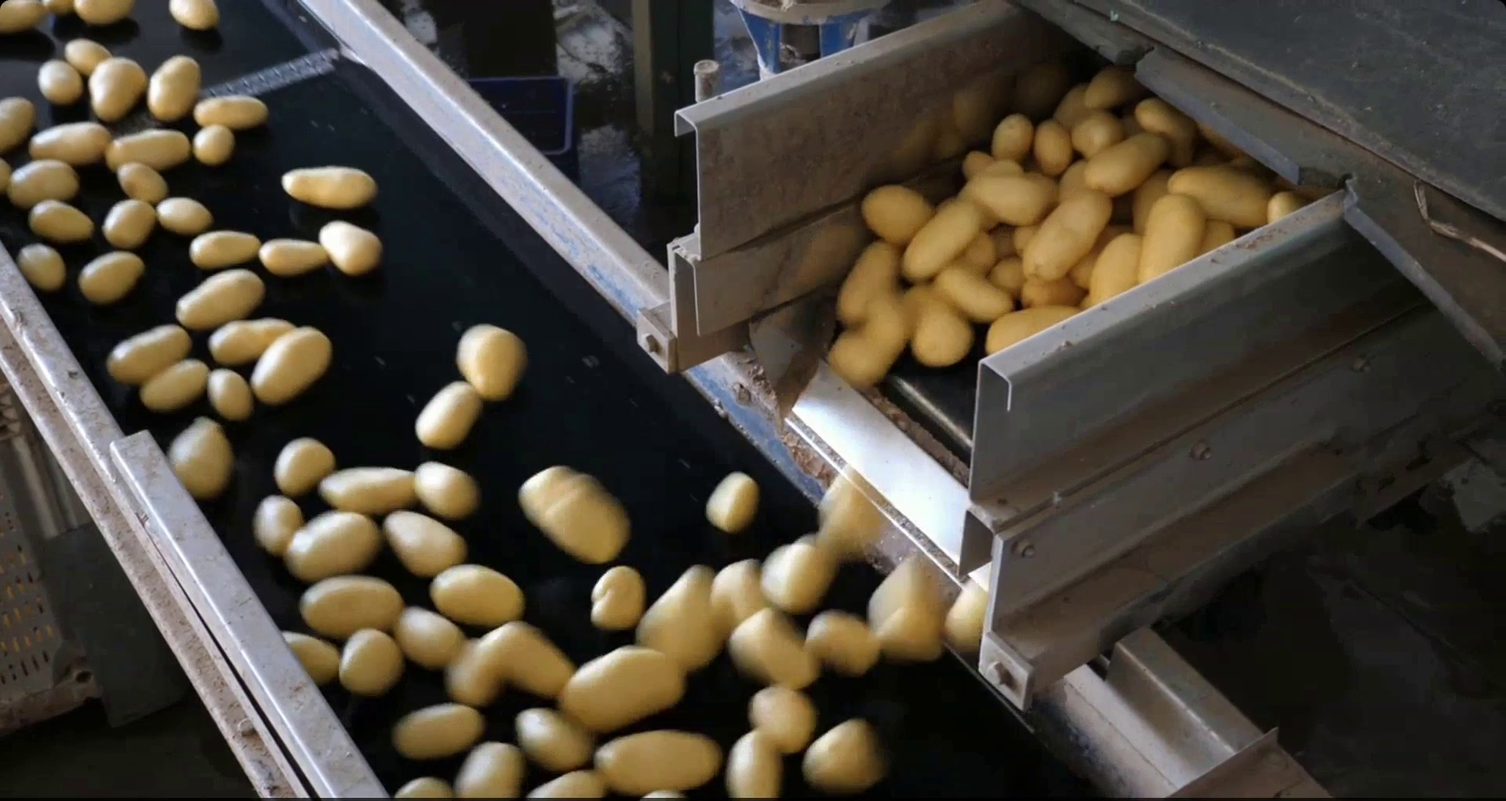potato: (511, 457, 637, 567), (550, 640, 692, 737), (626, 560, 729, 676), (864, 553, 949, 673), (589, 725, 724, 794), (469, 617, 581, 700), (1020, 186, 1115, 281), (278, 508, 386, 585), (293, 571, 409, 640), (726, 607, 824, 688), (893, 198, 984, 285), (449, 316, 535, 408), (245, 324, 336, 410), (1162, 162, 1273, 232), (798, 712, 892, 794), (817, 461, 893, 560), (831, 237, 907, 333), (387, 697, 492, 764), (1079, 129, 1176, 201), (758, 531, 846, 610), (426, 561, 528, 629), (1140, 191, 1208, 293), (168, 267, 271, 334), (378, 506, 471, 578), (163, 414, 239, 502), (101, 321, 200, 388), (800, 603, 885, 680), (406, 375, 488, 453), (313, 464, 430, 516), (854, 180, 940, 248), (510, 704, 595, 772), (744, 682, 820, 758), (982, 303, 1086, 358), (275, 160, 384, 212), (204, 313, 303, 369), (935, 259, 1018, 325), (335, 625, 407, 701), (391, 603, 469, 672), (908, 292, 977, 370), (720, 722, 788, 801), (142, 50, 208, 128), (584, 560, 649, 639), (453, 737, 532, 801), (438, 634, 505, 709), (968, 171, 1057, 227), (268, 433, 341, 501), (101, 124, 194, 177), (706, 555, 772, 629), (136, 355, 217, 415), (82, 54, 150, 125), (314, 216, 389, 280), (940, 571, 995, 658), (24, 120, 118, 170), (275, 622, 344, 690), (409, 456, 480, 522), (1089, 227, 1144, 311), (73, 249, 151, 308), (2, 156, 87, 208), (700, 465, 762, 535), (249, 491, 309, 562), (94, 195, 162, 253), (829, 328, 887, 396), (255, 233, 334, 280), (26, 195, 100, 245), (189, 92, 279, 132), (864, 294, 911, 367), (1066, 104, 1128, 158), (187, 228, 266, 270), (522, 764, 610, 801), (203, 364, 255, 426), (1130, 95, 1200, 141), (12, 241, 69, 296), (150, 194, 216, 241), (1129, 166, 1173, 236), (114, 157, 172, 205), (1, 88, 40, 155), (1082, 63, 1140, 108), (1032, 114, 1074, 176), (184, 121, 238, 169), (35, 56, 83, 110), (62, 34, 117, 80), (1018, 276, 1084, 314), (988, 110, 1034, 164), (955, 228, 999, 278), (1198, 212, 1238, 265), (389, 772, 459, 801), (162, 1, 228, 31), (69, 1, 140, 28), (1263, 186, 1309, 227), (988, 255, 1028, 302), (1, 2, 53, 37), (1049, 80, 1093, 121), (1064, 249, 1100, 288), (981, 221, 1014, 260), (960, 145, 995, 179), (1059, 157, 1089, 195), (982, 155, 1025, 178), (631, 785, 689, 801), (1007, 224, 1039, 252), (1, 149, 16, 206), (38, 1, 80, 19), (1075, 290, 1095, 317)
